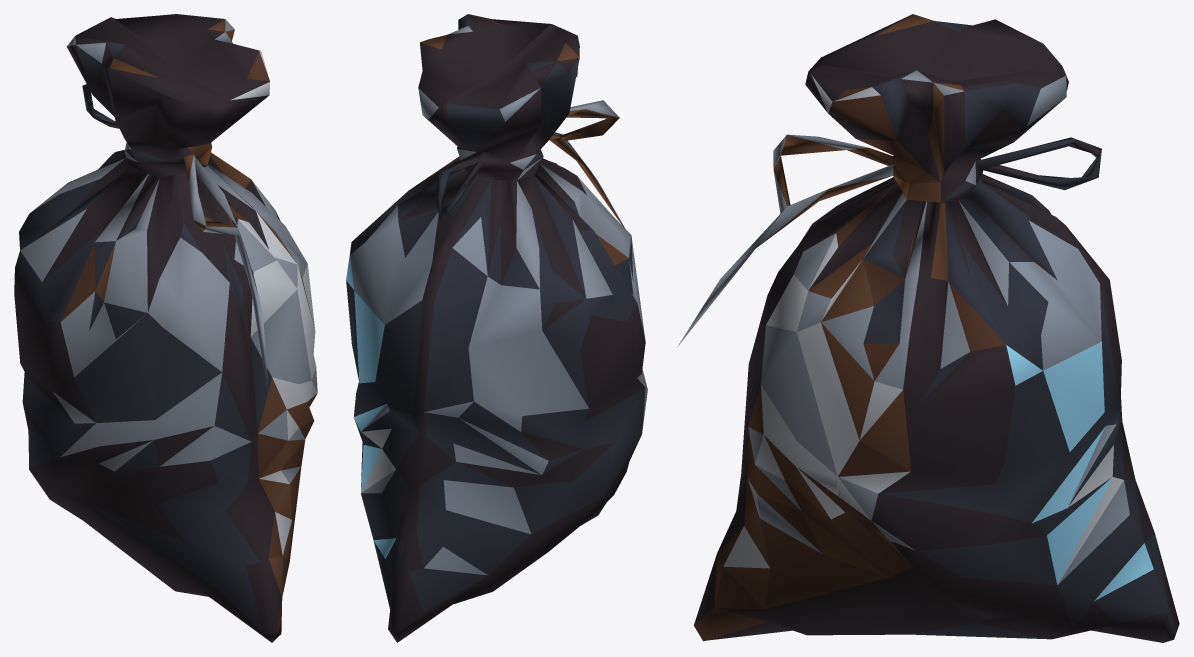
File: SM_trash_bag_black.fbx
The picture shows the model from 3 angles, left to right: view 1: azimuth 30°, elevation 25°; view 2: azimuth 150°, elevation 25°; view 3: azimuth 270°, elevation 25°; orthographic projection. The views are drawn at different scales.
Visible parts, largest first — view 1: SM_trash_bag_black; view 2: SM_trash_bag_black; view 3: SM_trash_bag_black.
Boxes of the visible parts, bbox=[...] form: SM_trash_bag_black: bbox=[14, 14, 317, 642]; SM_trash_bag_black: bbox=[346, 14, 647, 642]; SM_trash_bag_black: bbox=[677, 14, 1179, 642].
Size of the model in its own units: 25.45 by 50 by 38.54.
Materials: 1 (1 with a texture image).
